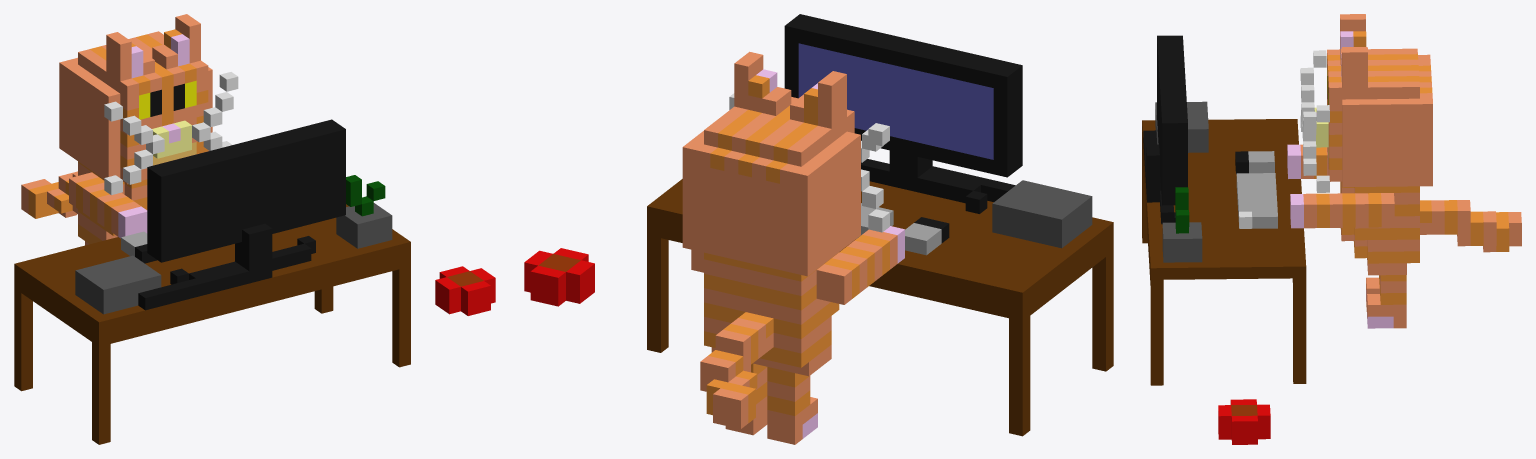
The model's file is benito.glb.
The picture shows the model from 3 angles, left to right: view 1: azimuth 30°, elevation 25°; view 2: azimuth 150°, elevation 25°; view 3: azimuth 270°, elevation 25°; orthographic projection. The views are drawn at different scales.
Visible parts, largest first — view 1: benito.vox; view 2: benito.vox; view 3: benito.vox.
Part boxes in pixels (bbox=[...]): benito.vox: bbox=[14, 14, 495, 444]; benito.vox: bbox=[524, 14, 1113, 444]; benito.vox: bbox=[1142, 14, 1521, 444].
Size of the model in its own units: 3.81 by 2.4 by 2.93.
1 material, 1 textured.
